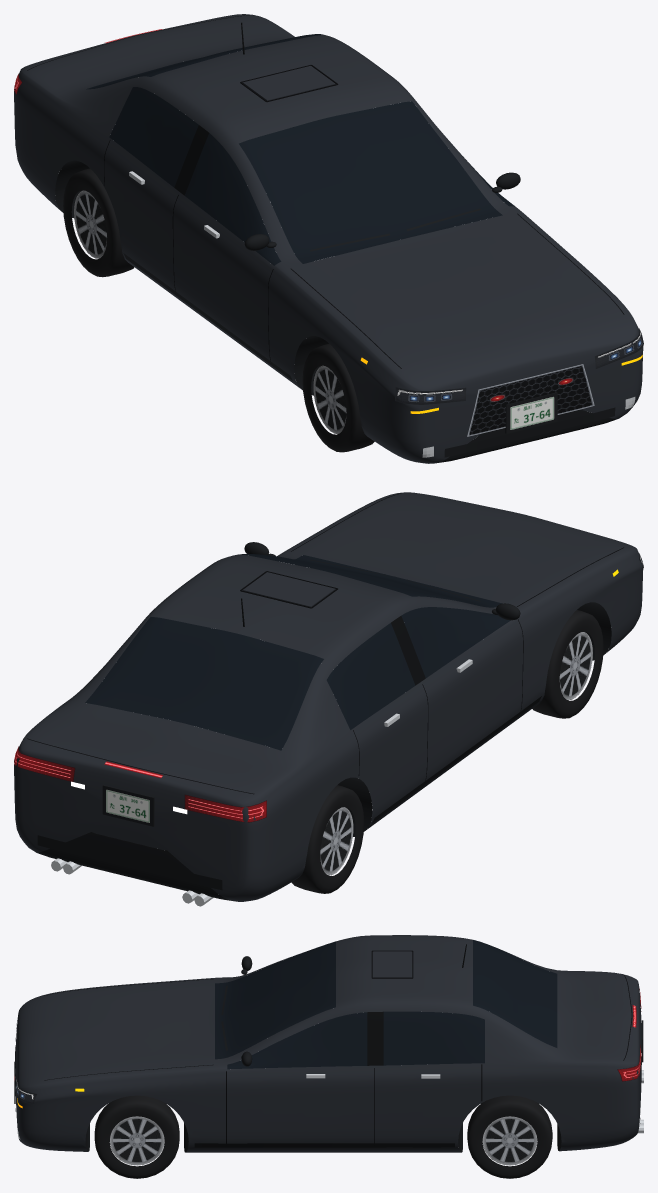
Rendered from police_unmarked.glb.
The picture shows the model from 3 angles, top to bottom: view 1: azimuth 30°, elevation 25°; view 2: azimuth 150°, elevation 25°; view 3: azimuth 270°, elevation 25°; orthographic projection. The views are drawn at different scales.
Parts seen in each view (by area): view 1: Body, WheelFR, WheelRR, HiddenBeacon; view 2: Body, WheelRR, WheelFR, HiddenBeacon; view 3: Body, WheelFL, WheelRL, HiddenBeacon.
Boxes of the visible parts, x1,y1,x2,y2 form: Body: (14,14,643,463); WheelFR: (302,343,374,452); WheelRR: (63,168,134,277); HiddenBeacon: (242,66,335,100); Body: (14,492,643,906); WheelRR: (291,785,364,893); WheelFR: (532,610,603,718); HiddenBeacon: (242,572,335,607); Body: (14,935,643,1152); WheelFL: (94,1095,179,1178); WheelRL: (467,1095,552,1178); HiddenBeacon: (373,951,411,977).
Bounding box in the file's own units: 1.94 × 1.63 × 4.93.
Materials: 17 (7 with a texture image).
